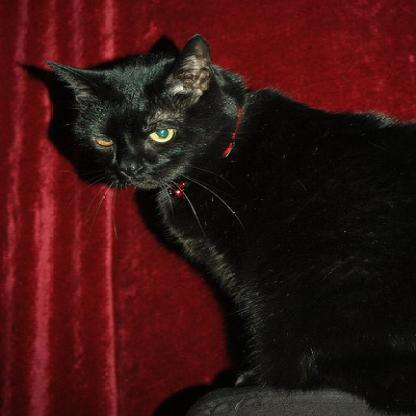cat: (19, 32, 414, 412)
